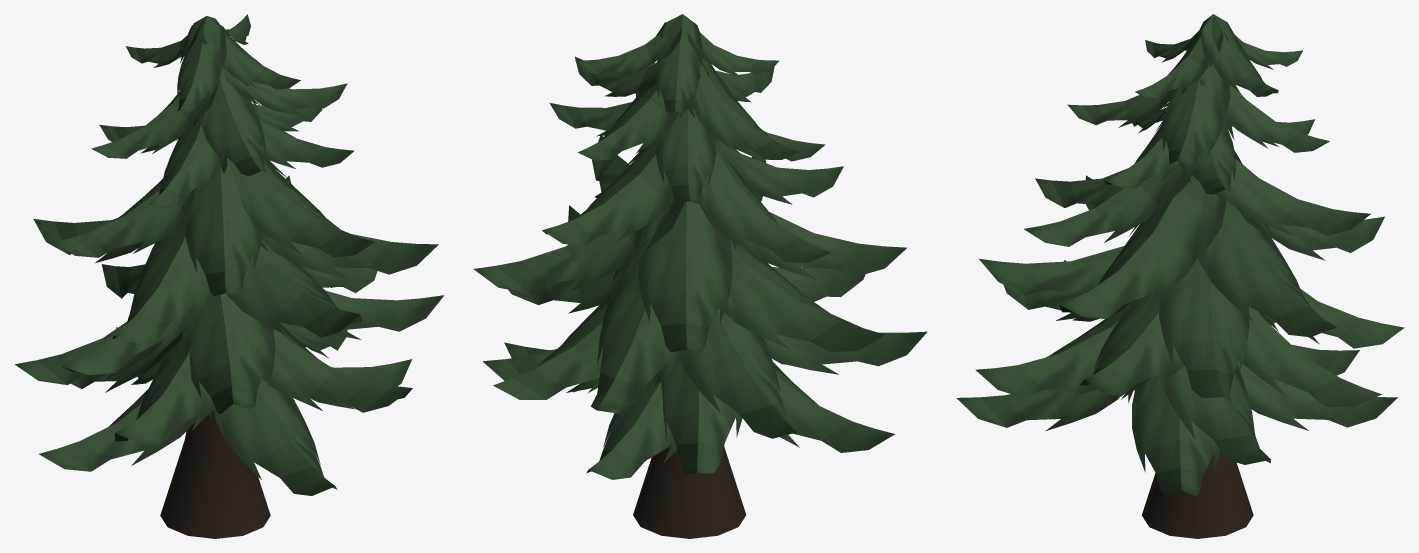
The model's file is TreeFinal.fbx.
The picture shows the model from 3 angles, left to right: view 1: azimuth 30°, elevation 25°; view 2: azimuth 150°, elevation 25°; view 3: azimuth 270°, elevation 25°; orthographic projection. The views are drawn at different scales.
Visible parts, largest first — view 1: Tree; view 2: Tree; view 3: Tree.
Part boxes in pixels (left/top/right/bottom): Tree: left=15, top=14, right=443, bottom=538; Tree: left=473, top=14, right=927, bottom=538; Tree: left=956, top=14, right=1404, bottom=538.
Bounding box in the file's own units: 221 × 276 × 224.
